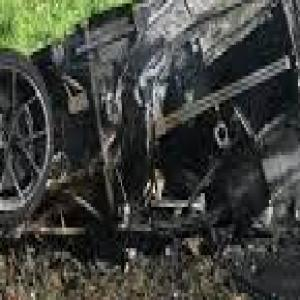severe: (0, 0, 300, 276)
